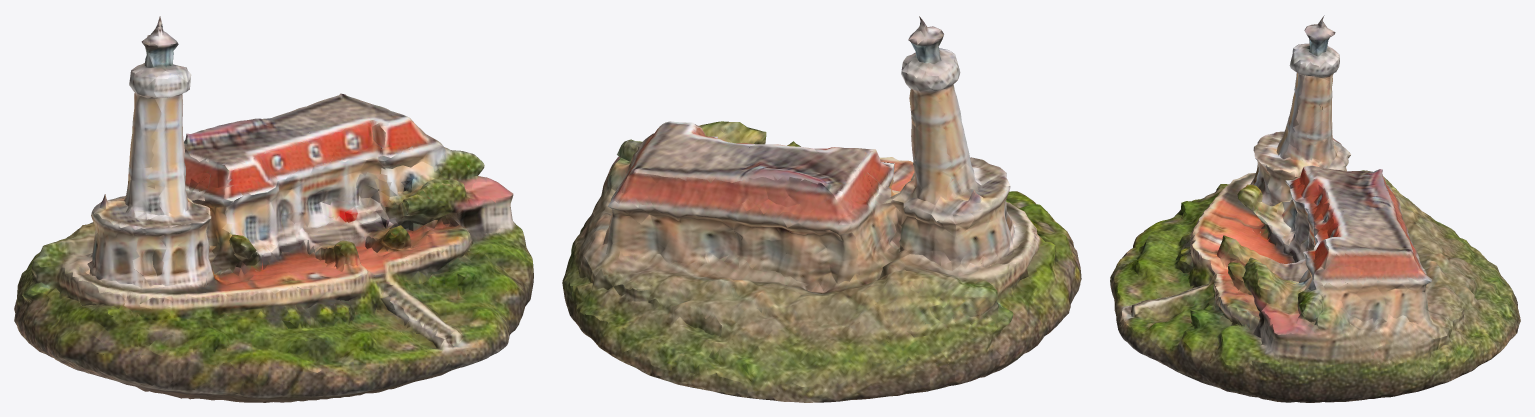
The model's file is hai_dang_vinh_thuc_sf3d_v2.glb.
3 views of the same model, side by side, from view 1: azimuth 30°, elevation 25°; view 2: azimuth 150°, elevation 25°; view 3: azimuth 270°, elevation 25° (orthographic). The views are drawn at different scales.
Visible parts, largest first — view 1: hai_dang_vinh_thuc_sf3d_v2.glb; view 2: hai_dang_vinh_thuc_sf3d_v2.glb; view 3: hai_dang_vinh_thuc_sf3d_v2.glb.
Boxes of the visible parts, bbox=[...] form: hai_dang_vinh_thuc_sf3d_v2.glb: bbox=[14, 16, 533, 402]; hai_dang_vinh_thuc_sf3d_v2.glb: bbox=[562, 16, 1081, 402]; hai_dang_vinh_thuc_sf3d_v2.glb: bbox=[1110, 15, 1520, 402].
Bounding box in the file's own units: 1.92 × 1.26 × 1.82.
Materials: 1 (1 with a texture image).
